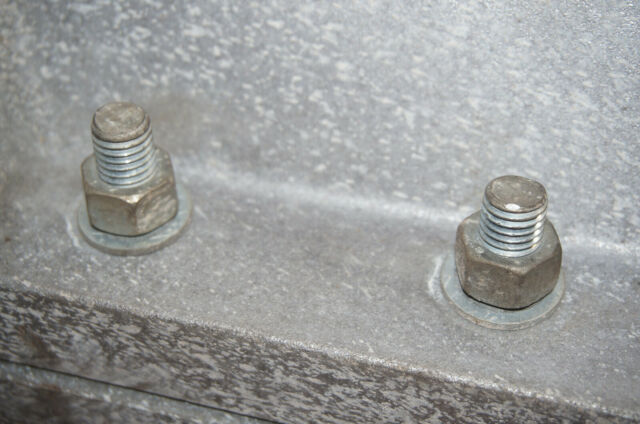bolt_b: (452, 200, 563, 312), (79, 137, 180, 239)
